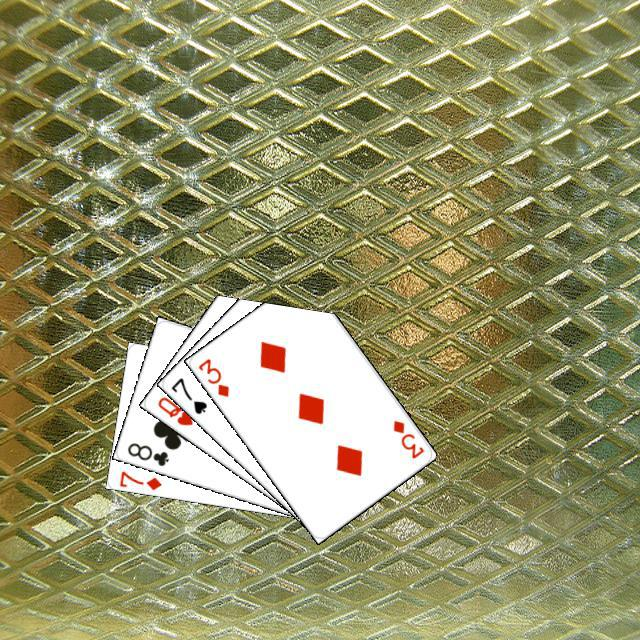3d: (193, 353, 231, 399), (388, 415, 426, 461)
7d: (115, 466, 163, 492)
7s: (166, 373, 209, 416)
8c: (122, 438, 170, 468)
Qh: (152, 392, 195, 427)
